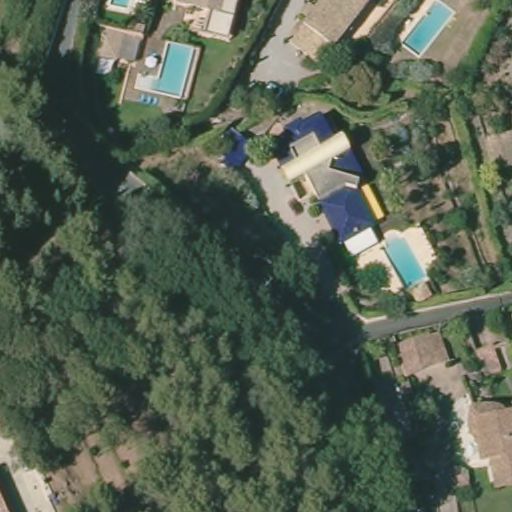pool: (133, 38, 203, 103), (398, 1, 460, 57), (376, 232, 431, 289), (101, 1, 138, 15)
